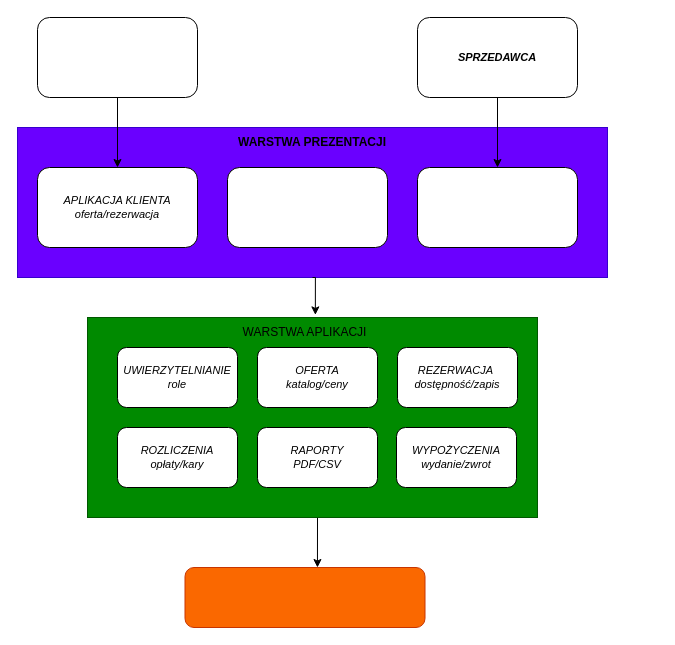
This 675x645 diagram has some shape labels left out. The shapes that lost their labels are listed below. From the top down, each one's centre as x and y in pixels, then its label:
point (117, 57): KLIENT
point (307, 207): LOGOWANIE wspólne dla ról
point (497, 207): PANEL SPRZEDAWCY wydanie, zwroty
point (304, 597): SQL DATABASE użytkownicy/sprzęt/rezerwacja
